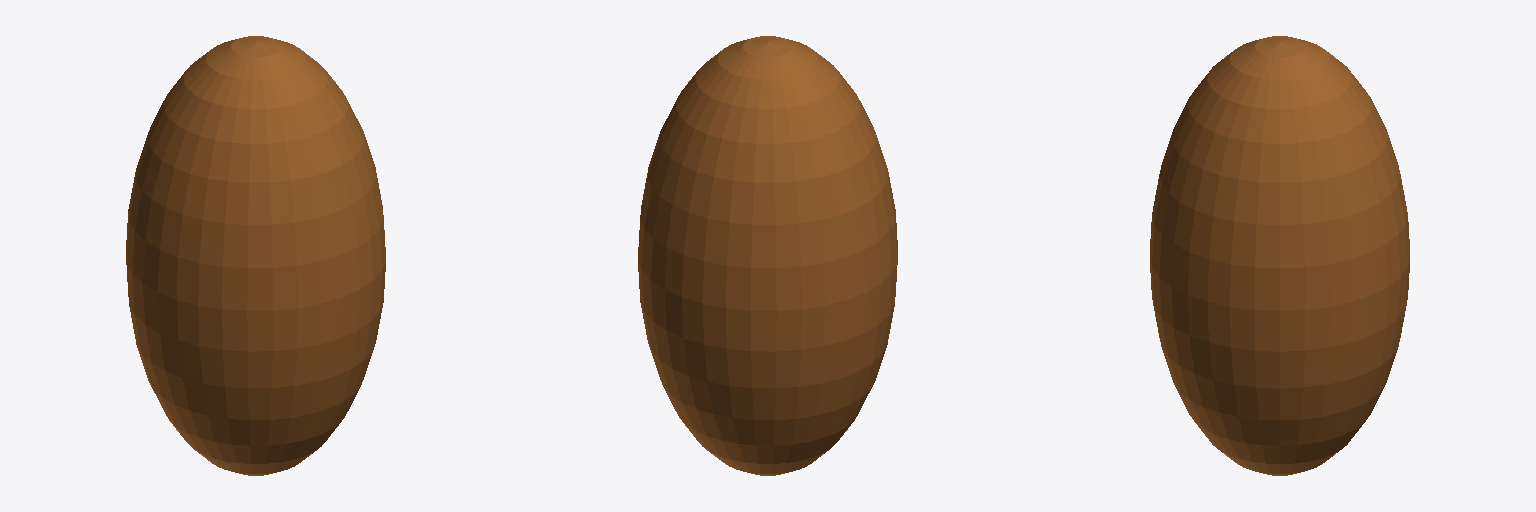
The model's file is huevo.obj.
3 renders of one model, left to right at view 1: azimuth 30°, elevation 25°; view 2: azimuth 150°, elevation 25°; view 3: azimuth 270°, elevation 25°, orthographic.
Parts seen in each view (by area): view 1: Sphere; view 2: Sphere; view 3: Sphere.
Boxes of the visible parts, x1,y1,x2,y2 form: Sphere: [126, 36, 385, 475]; Sphere: [638, 36, 897, 475]; Sphere: [1150, 36, 1409, 475].
Size of the model in its own units: 2.58 by 4.65 by 2.58.